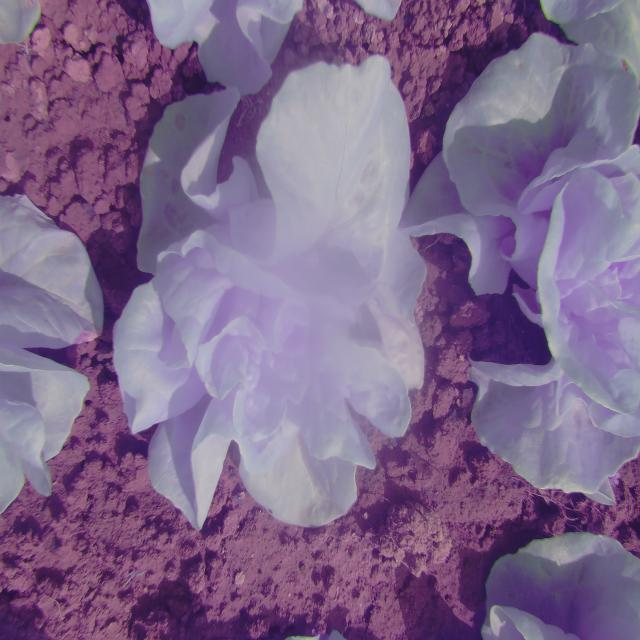vege: (98, 50, 430, 525)
